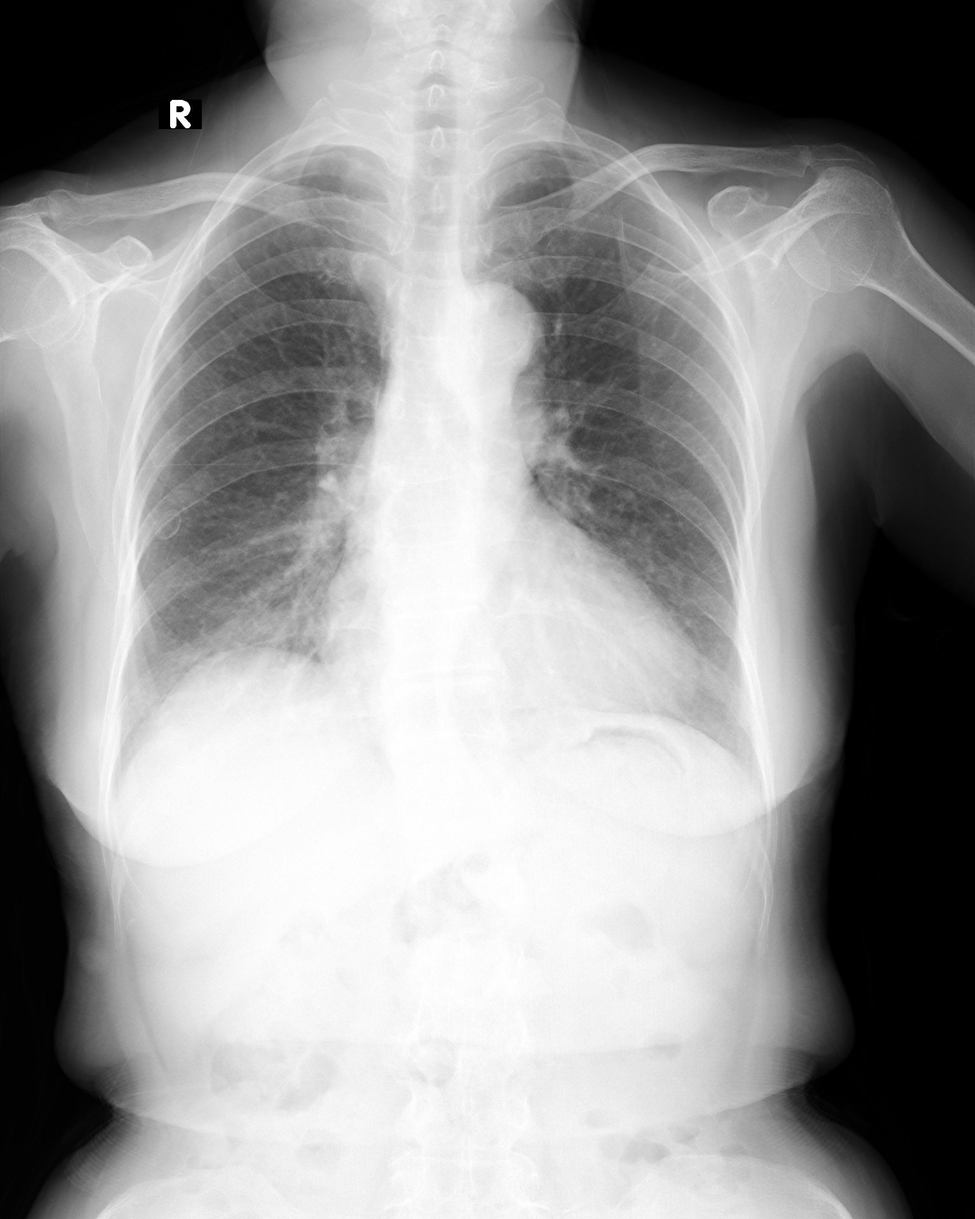Cardiomegaly: (310, 600, 702, 716)
